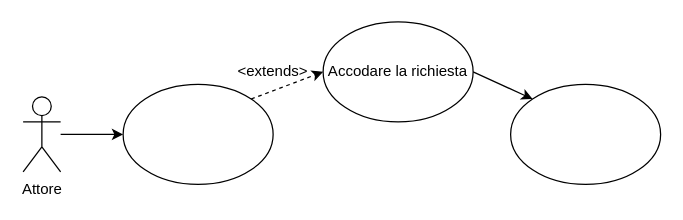
Image size: 683x220. Some labels were removed from this diagram. The shapes that lost their labels are listed below. From the top down, each one's centre as x and y in pixels, then its label:
(197,133): Richiedere un servizio
(585,133): Simulare la risoluzione della richiesta
